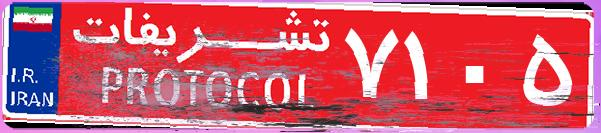0: (460, 20, 520, 115)
1: (400, 20, 460, 115)
5: (520, 20, 580, 115)
7: (340, 20, 400, 115)
تشریفات: (60, 8, 340, 125)
